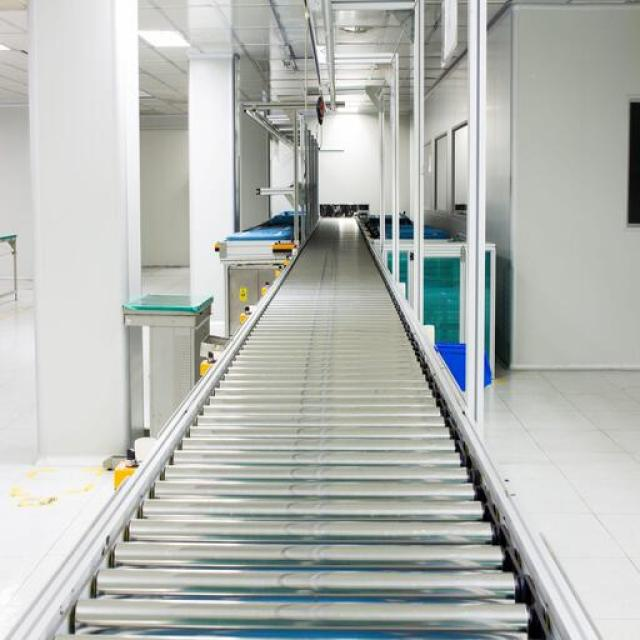conveyor: (9, 215, 640, 640)
